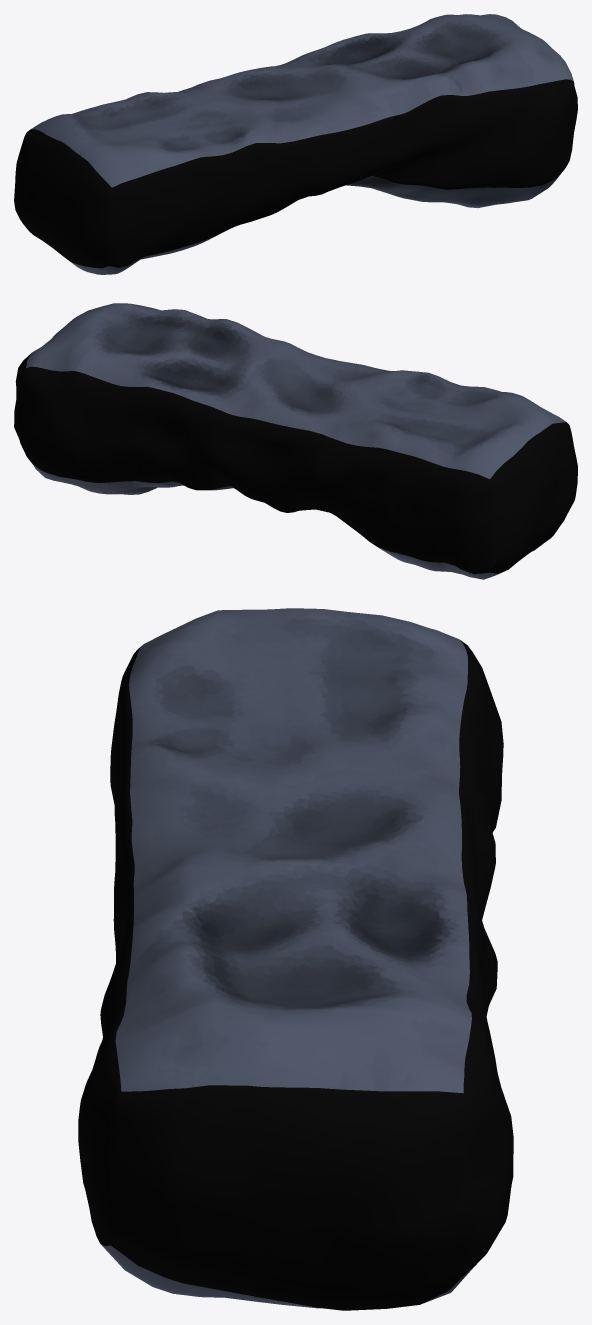
File: Ceeling_wall_FB.fbx
3 renders of one model, top to bottom at view 1: azimuth 30°, elevation 25°; view 2: azimuth 150°, elevation 25°; view 3: azimuth 270°, elevation 25°, orthographic. The views are drawn at different scales.
Parts seen in each view (by area): view 1: Ceeling_wall_FB; view 2: Ceeling_wall_FB; view 3: Ceeling_wall_FB.
Boxes of the visible parts, x1,y1,x2,y2 form: Ceeling_wall_FB: (14, 14, 577, 274); Ceeling_wall_FB: (14, 303, 577, 579); Ceeling_wall_FB: (78, 608, 513, 1310).
Bounding box in the file's own units: 1632 × 453 × 602.
Materials: 2 (1 with a texture image).
